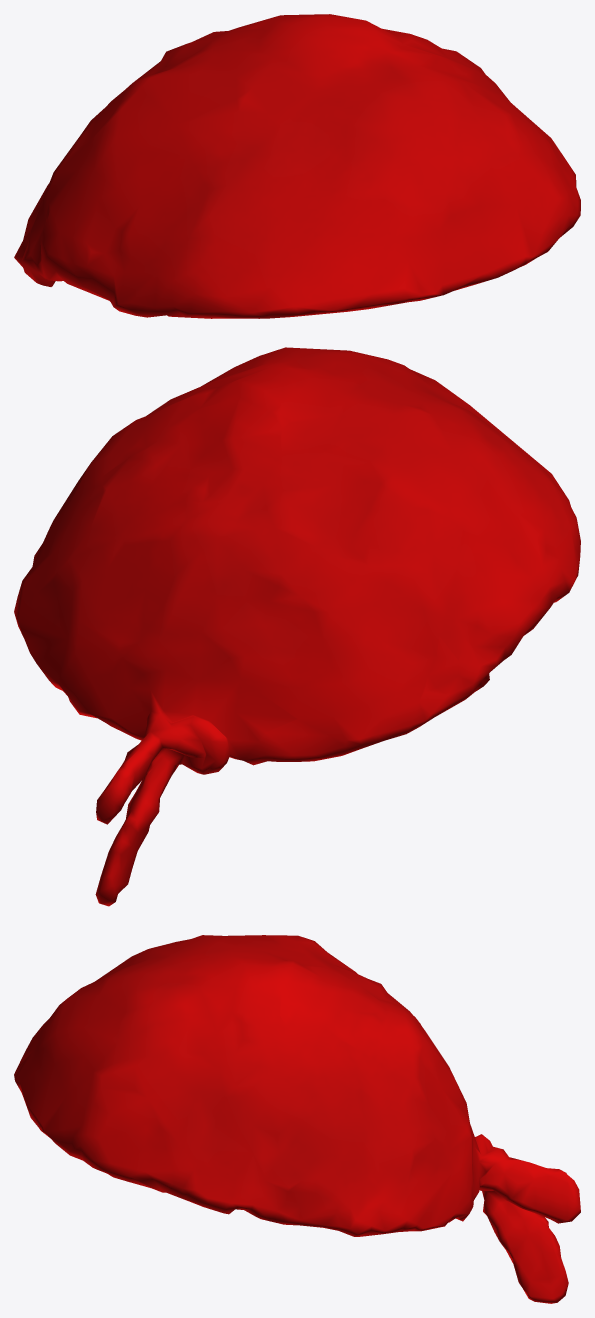
The model's file is bandana red.glb.
The picture shows the model from 3 angles, top to bottom: view 1: azimuth 30°, elevation 25°; view 2: azimuth 150°, elevation 25°; view 3: azimuth 270°, elevation 25°; orthographic projection. The views are drawn at different scales.
Parts seen in each view (by area): view 1: hat_bandana_red.001; view 2: hat_bandana_red.001; view 3: hat_bandana_red.001.
Part boxes in pixels (x1,y1,x2,y2): hat_bandana_red.001: (14, 14, 580, 318); hat_bandana_red.001: (14, 347, 580, 906); hat_bandana_red.001: (14, 935, 580, 1303).
Size of the model in its own units: 0.3428 by 0.2764 by 0.4166.
1 material, 1 textured.
